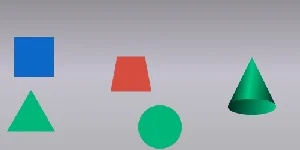三角形: (7, 90, 57, 134)
圆形: (137, 103, 183, 150)
圆锥体: (228, 56, 279, 116)
梯形: (108, 55, 153, 93)
正方形: (12, 35, 56, 79)
